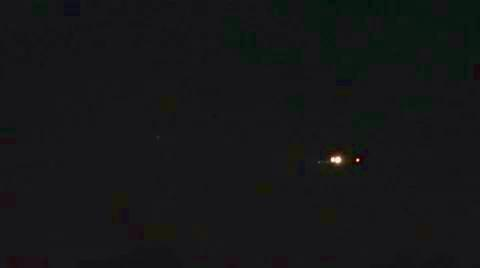Plane: (297, 130, 391, 185)
